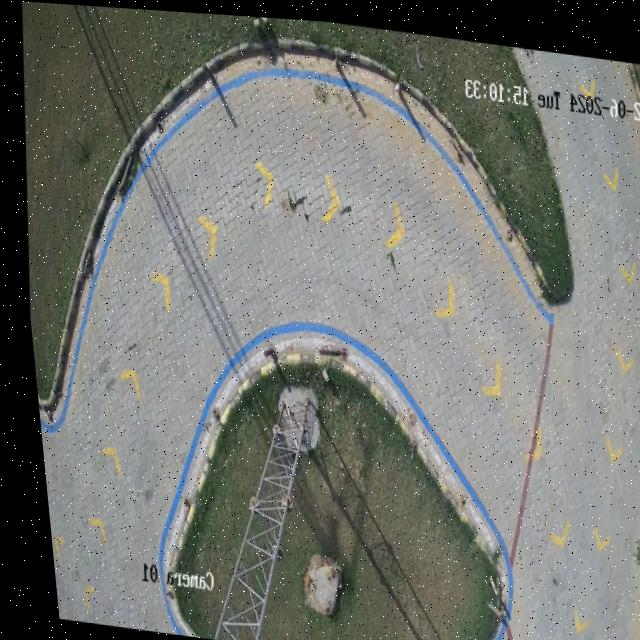No Car: (22, 1, 640, 640)
